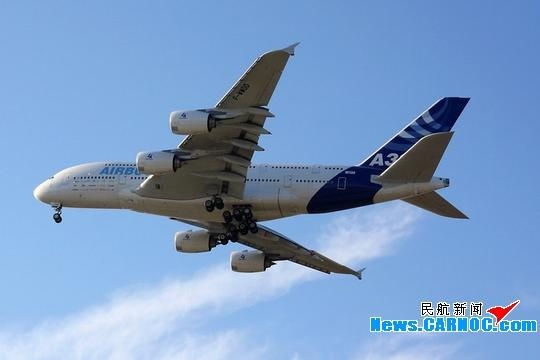airplane: (21, 42, 511, 281)
